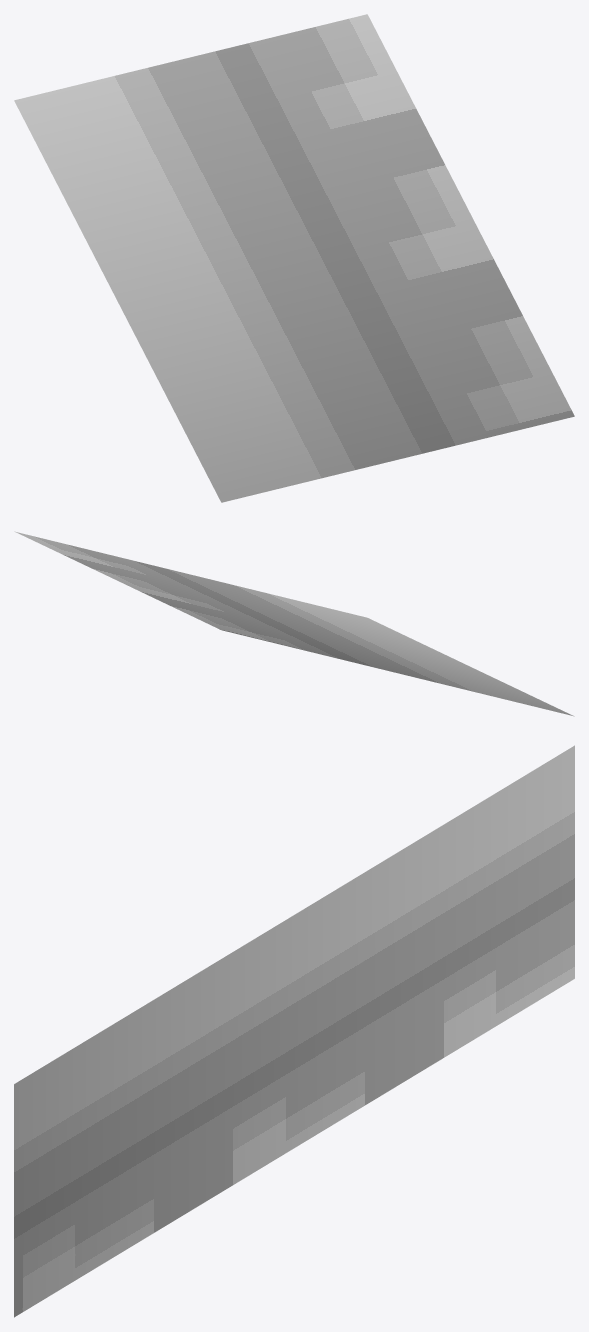
The picture shows the model from 3 angles, top to bottom: view 1: azimuth 30°, elevation 25°; view 2: azimuth 150°, elevation 25°; view 3: azimuth 270°, elevation 25°; orthographic projection. The views are drawn at different scales.
Size of the model in its own units: 0.9844 by 0.6667 by 1.
1 material, 1 textured.
